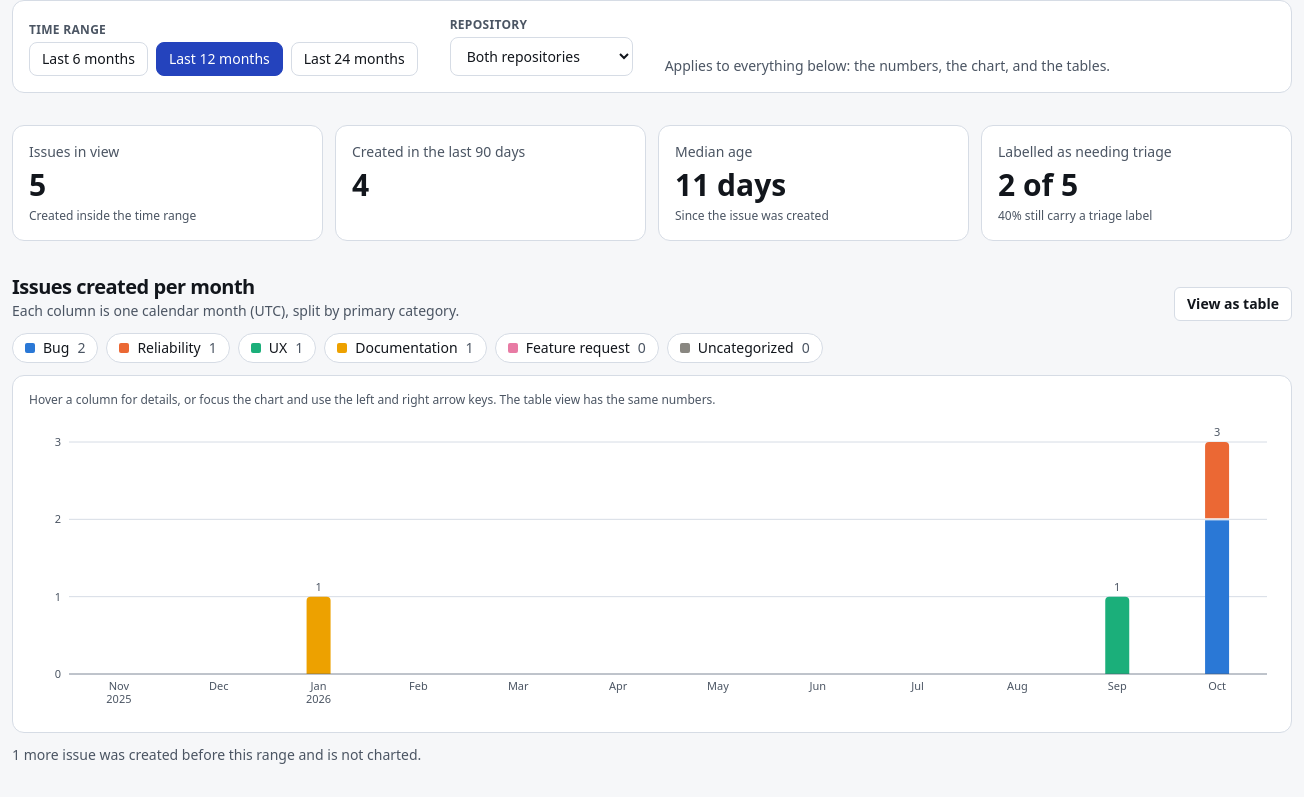
Scenario: TrendsView › changes every number when the time range changes
Click the radio button labelled "Last 6 months". click: (88, 59)
box: [29,42,148,76]
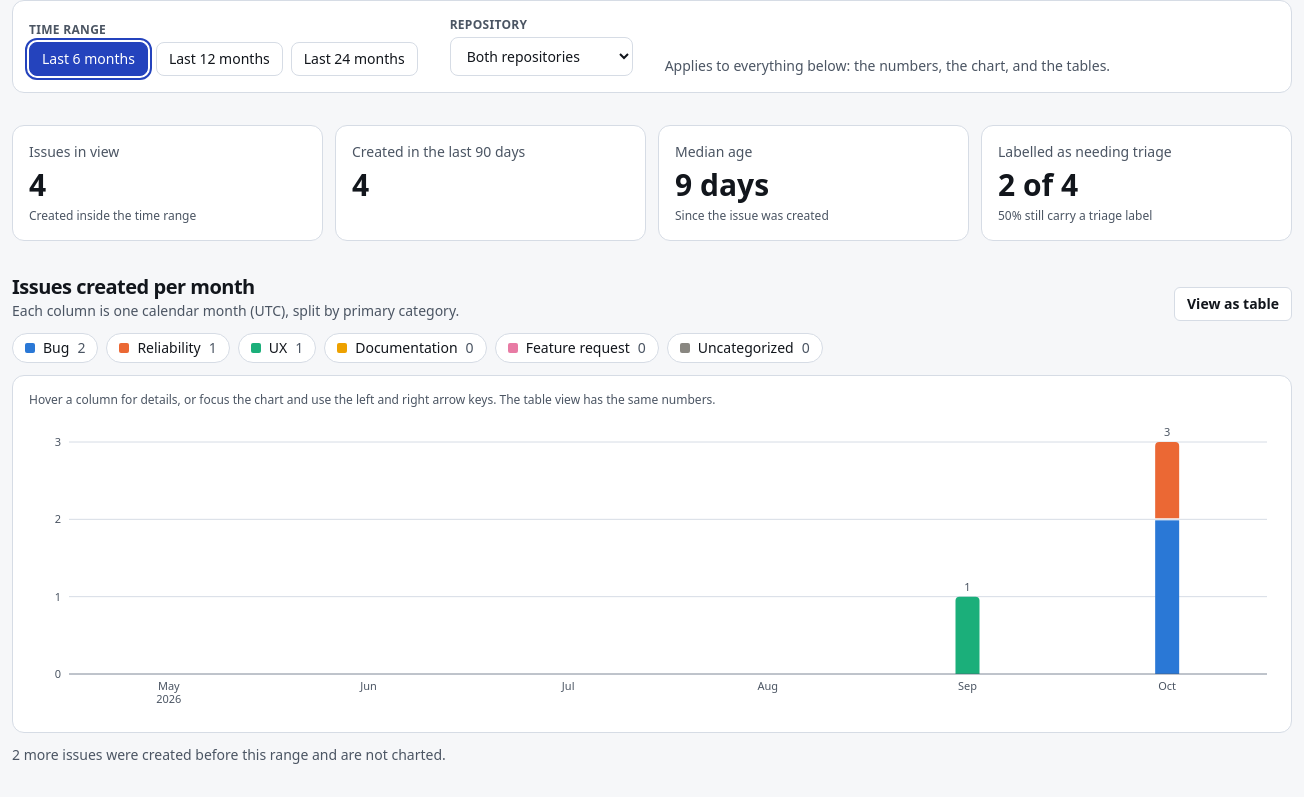
Check: the text "4" below "Issues in view" is shown, box [29,164,46,205]
Click the radio button labelled "Last 24 months". click: (354, 59)
box: [291,42,418,76]
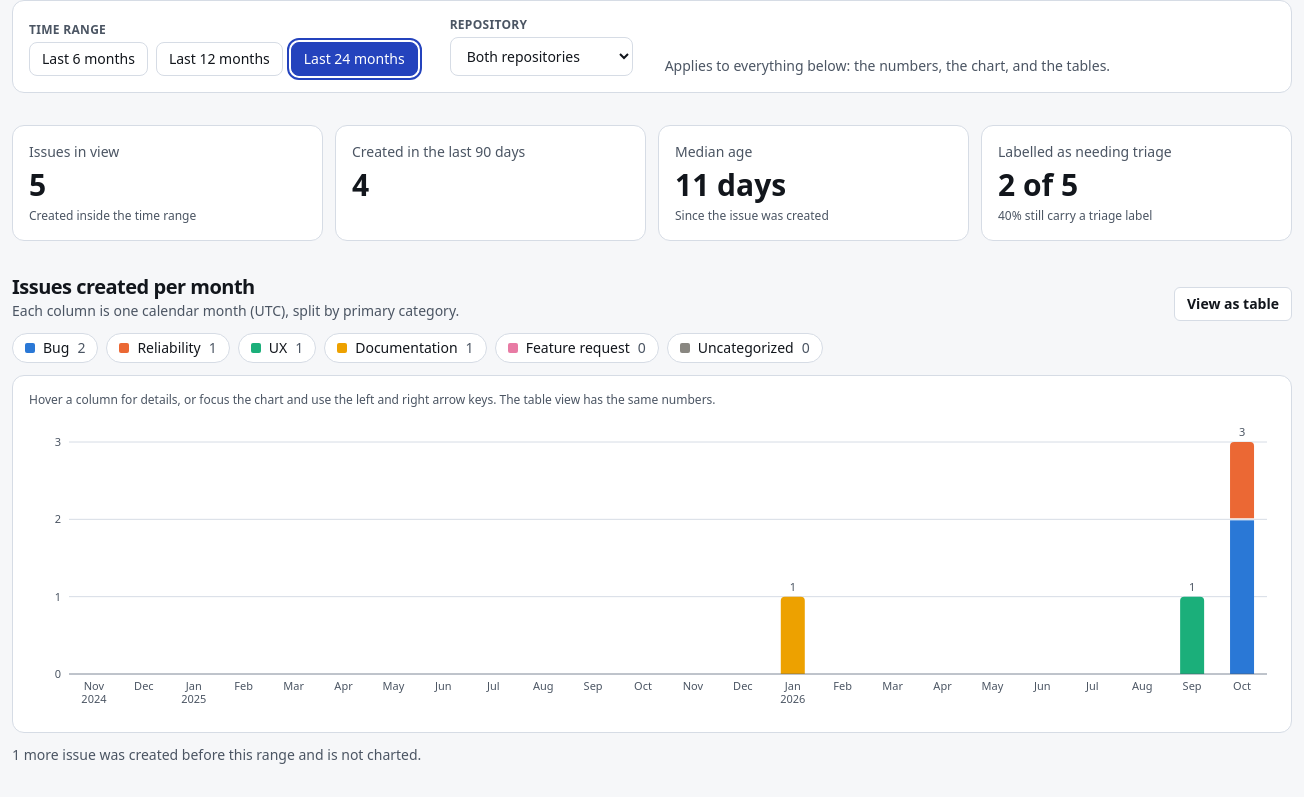
Check: the text "5" is shown, box [29,164,46,205]
